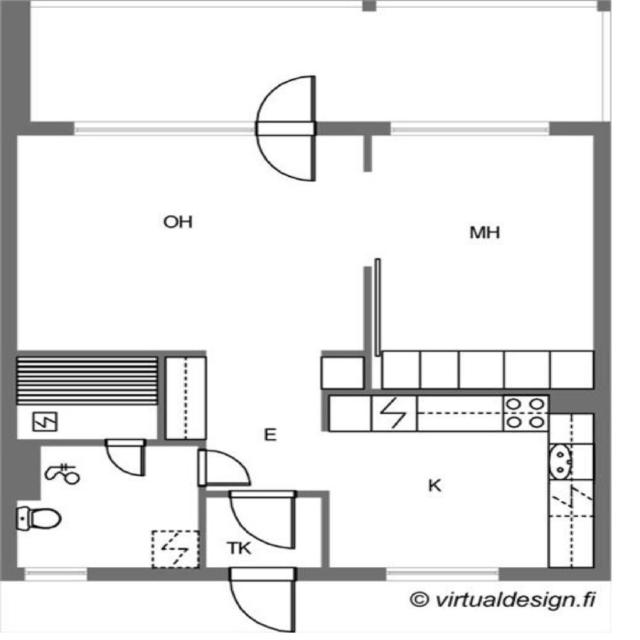door: (218, 486, 304, 562), (225, 567, 299, 636), (250, 72, 320, 136), (254, 114, 319, 182), (193, 443, 259, 488), (101, 433, 152, 479)
window: (384, 114, 554, 145), (73, 117, 260, 142), (376, 560, 506, 583), (14, 562, 98, 584)
zone: (19, 135, 348, 354), (377, 126, 600, 394), (325, 391, 601, 575), (11, 441, 203, 573), (14, 352, 160, 442)
